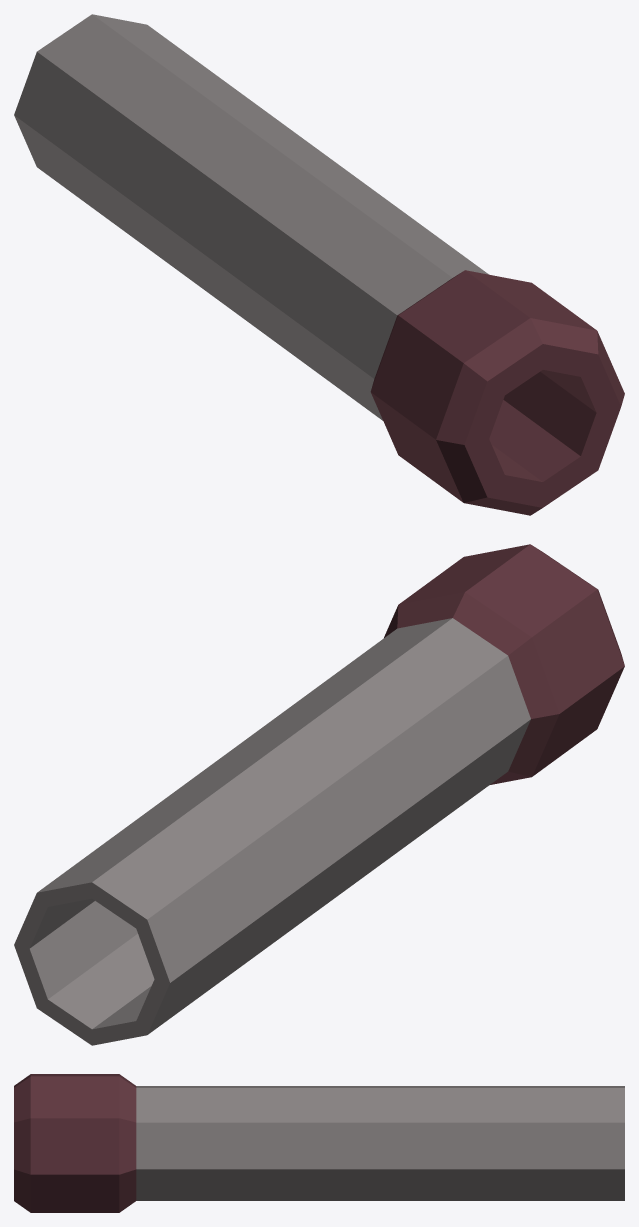
Rendered from scifi-tube-short.fbx.
3 views of the same model, one above another, from view 1: azimuth 30°, elevation 25°; view 2: azimuth 150°, elevation 25°; view 3: azimuth 270°, elevation 25° (orthographic). The views are drawn at different scales.
Parts seen in each view (by area): view 1: scifi-tube-short; view 2: scifi-tube-short; view 3: scifi-tube-short.
Part boxes in pixels (x1=…): scifi-tube-short: x1=14, y1=14, x2=624, y2=515; scifi-tube-short: x1=14, y1=544, x2=624, y2=1045; scifi-tube-short: x1=14, y1=1074, x2=624, y2=1212.
Bounding box in the file's own units: 0.242 × 0.242 × 1.
